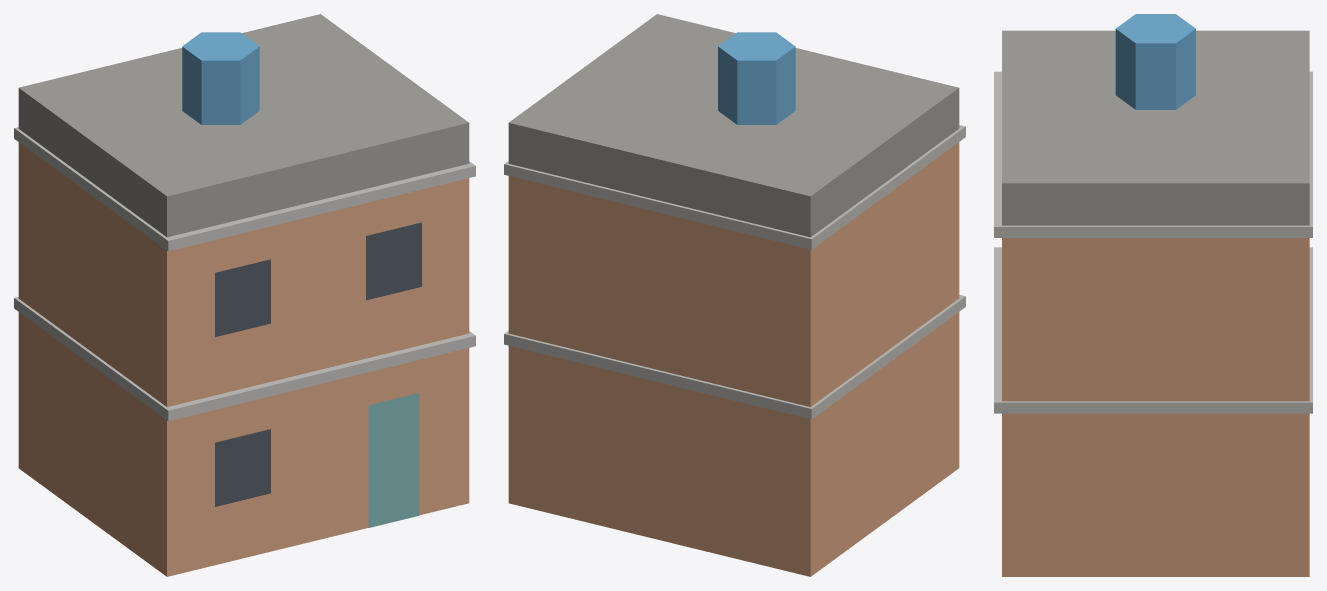
3 renders of one model, left to right at view 1: azimuth 30°, elevation 25°; view 2: azimuth 150°, elevation 25°; view 3: azimuth 270°, elevation 25°, orthographic. The views are drawn at different scales.
Visible parts, largest first — view 1: fv_h14.lod1; view 2: fv_h14.lod1; view 3: fv_h14.lod1.
Boxes of the visible parts, left/top/right/bottom form: fv_h14.lod1: left=14, top=14, right=475, bottom=576; fv_h14.lod1: left=504, top=14, right=965, bottom=576; fv_h14.lod1: left=994, top=14, right=1312, bottom=576.
Bounding box in the file's own units: 5.5 × 7.6 × 4.77.
